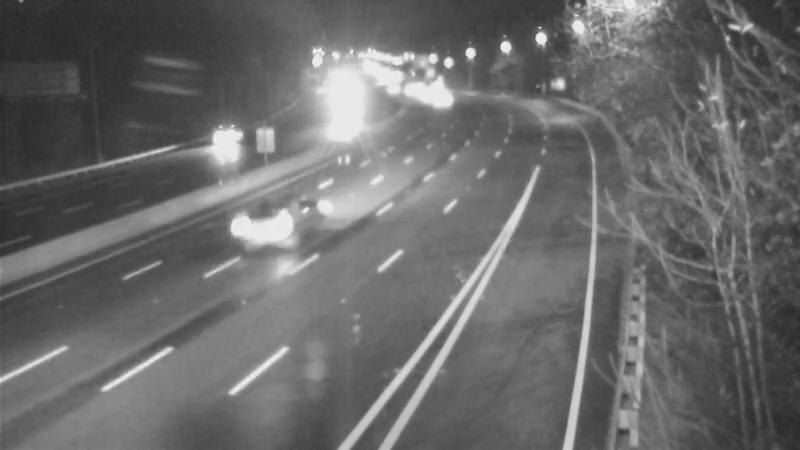vehicle: (227, 185, 307, 265), (410, 71, 460, 121), (198, 121, 248, 171), (315, 99, 365, 149)
